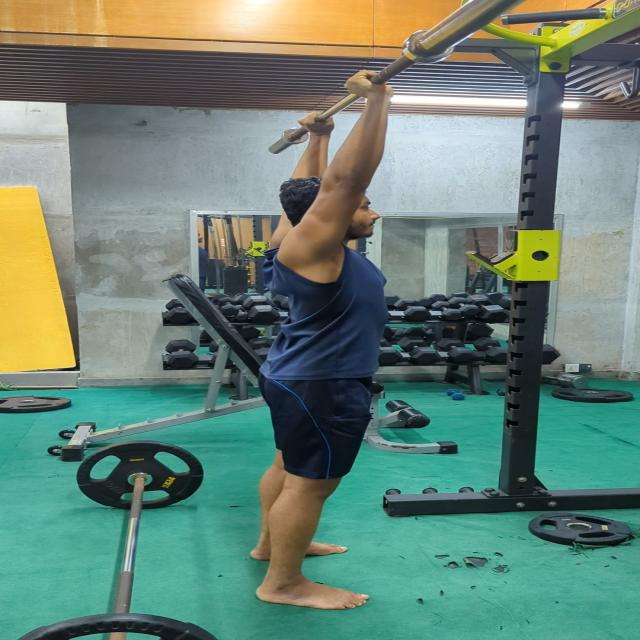Normal_OverheadPress: (237, 62, 418, 628)
